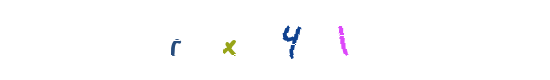1: (281, 0, 361, 80)
4: (234, 0, 314, 80)
R: (189, 0, 269, 80)
X: (223, 0, 303, 80)
